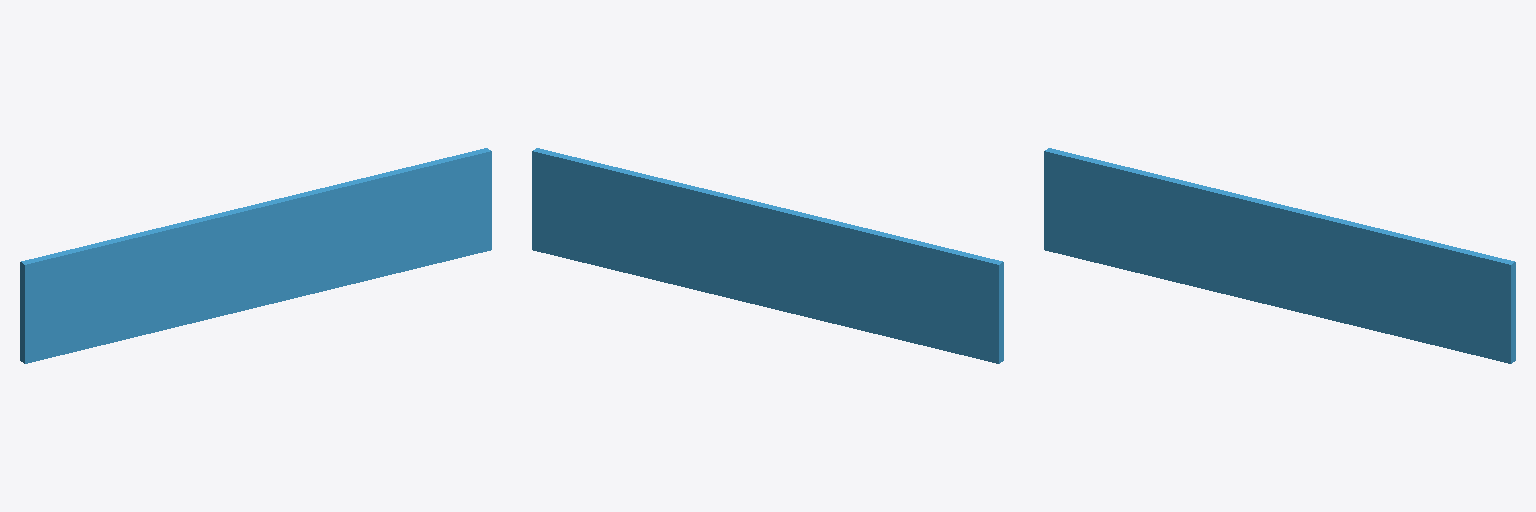
robot.urdf — hemis_2:
<?xml version="1.0" encoding="utf-8"?>    
    <robot name="hemis_2">
        <link name="hemis_2">    
            <fem>
                <origin rpy="0.0 0.0 0.0" xyz="0 0 0" />
                <density value="100" />
                <youngs value="979"/>
                <poissons value="0.3" />
                <damping value="0.0" />
                <attachDistance value="0.04" />
                <tetmesh filename="[local-path]/sim_data/Custom/Custom_mesh/multi_hemis_1000Pa_2/hemis_2.tet" />
                <scale value="0.5"/>
            </fem>
        </link>

        <link name="fix_frame">
            <visual>
                <origin xyz="0 -10.121879360563135 0.060939680281567314"/>              
                <geometry>
                    <box size="0.3 0.005 0.060939680281567314"/>
                </geometry>
            </visual>
            <collision>
                <origin xyz="0 -0.12187936056313463 0.060939680281567314"/>              
                <geometry>
                    <box size="0.3 0.005 0.060939680281567314"/>
                </geometry>
            </collision>
            <inertial>
                <mass value="500000"/>
                <inertia ixx="0.05" ixy="0.0" ixz="0.0" iyy="0.05" iyz="0.0" izz="0.05"/>
            </inertial>
        </link>
        
        <joint name = "attach" type = "fixed">
            <origin xyz = "0.0 0.0 0.0" rpy = "0 0 0"/>
            <parent link ="hemis_2"/>
            <child link = "fix_frame"/>
        </joint>  




    </robot>
    

--- What the picture shows (computed from the rendered views, not written in the file) ---
Views: 3 orthographic renders of the robot side by side, from view 1: azimuth 30°, elevation 25°; view 2: azimuth 150°, elevation 25°; view 3: azimuth 330°, elevation 25°.
Robot: hemis_2 — 2 links, 1 joints (1 fixed); root link hemis_2; default pose: every joint at zero.
Visible links, largest first — view 1: fix_frame; view 2: fix_frame; view 3: fix_frame.
Link boxes in pixels (box(x1,y1,x2,y2)): fix_frame: box(20, 148, 491, 363); fix_frame: box(532, 148, 1003, 363); fix_frame: box(1044, 148, 1515, 363).
Bounding box of the posed robot: 0.3 × 0.005 × 0.0609 m (x, y, z).
Geometry: primitives only (box / cylinder / sphere), no mesh files.